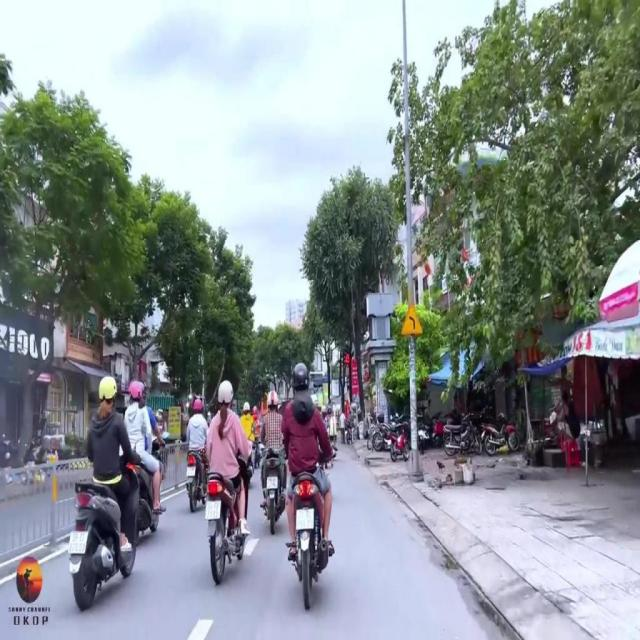cho_ngoat_nguy_hiem_ben_trai: (399, 305, 424, 335)
